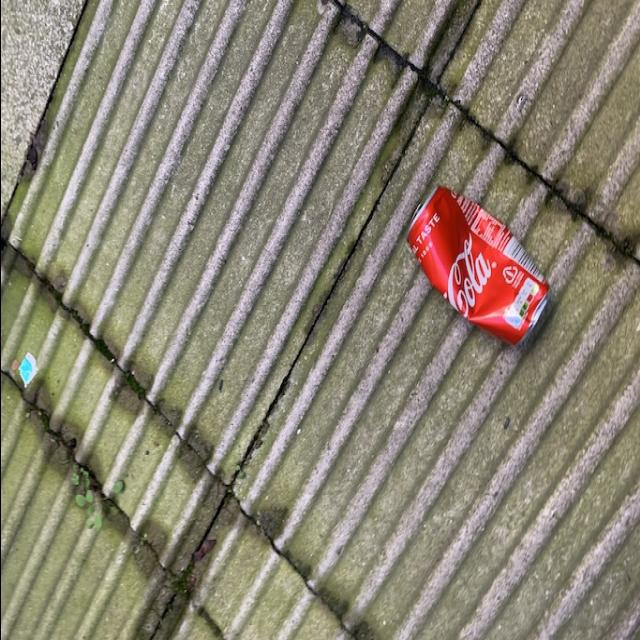litter: (402, 182, 546, 352)
